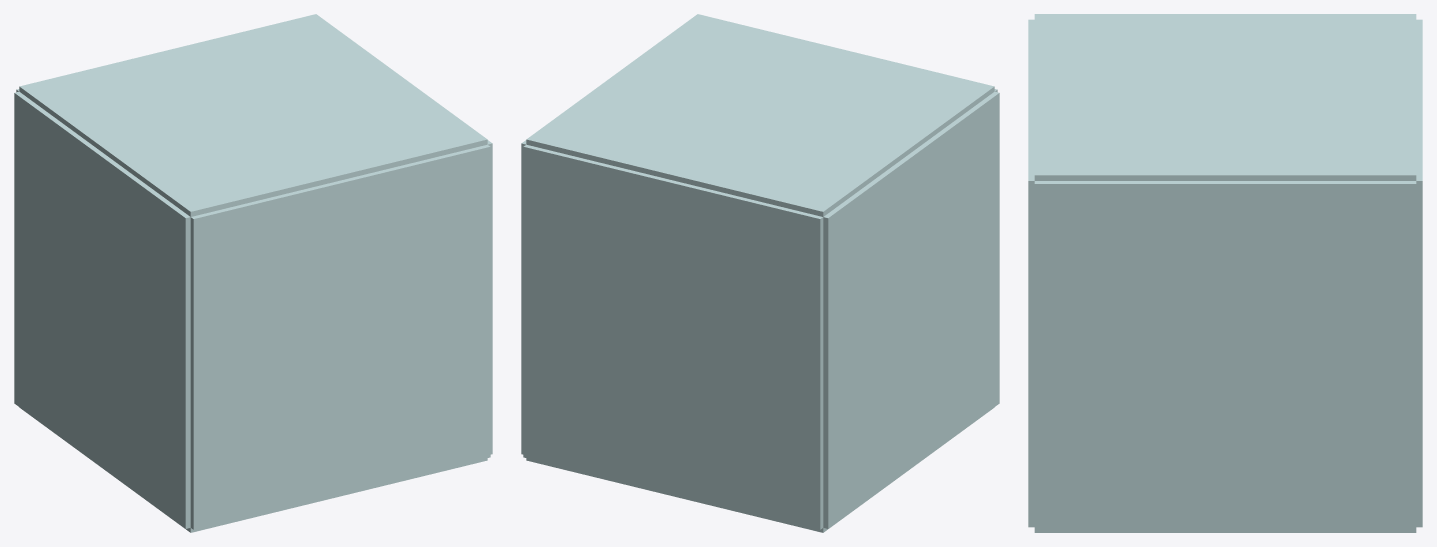
File: map1.fbx
The picture shows the model from 3 angles, left to right: view 1: azimuth 30°, elevation 25°; view 2: azimuth 150°, elevation 25°; view 3: azimuth 270°, elevation 25°; orthographic projection. The views are drawn at different scales.
Parts seen in each view (by area): view 1: 立方体.005, 立方体.002, 立方体.001, 立方体, 立方体.003; view 2: 立方体.004, 立方体.002, 立方体.001, 立方体, 立方体.003; view 3: 立方体.003, 立方体.001, 立方体.004, 立方体.005, 立方体.
Part boxes in pixels (x1,y1,x2,y2): 立方体.005: (190,144,490,529); 立方体.002: (14,91,190,528); 立方体.001: (19,14,487,216); 立方体: (19,407,487,532); 立方体.003: (487,140,492,454); 立方体.004: (523,144,823,529); 立方体.002: (823,91,999,528); 立方体.001: (526,14,994,216); 立方体: (526,407,994,532); 立方体.003: (521,140,526,454); 立方体.003: (1034,181,1416,529); 立方体.001: (1034,14,1416,180); 立方体.004: (1416,19,1422,527); 立方体.005: (1028,19,1034,527); 立方体: (1034,530,1416,532).
Bounding box in the file's own units: 6200 × 6200 × 6200.
